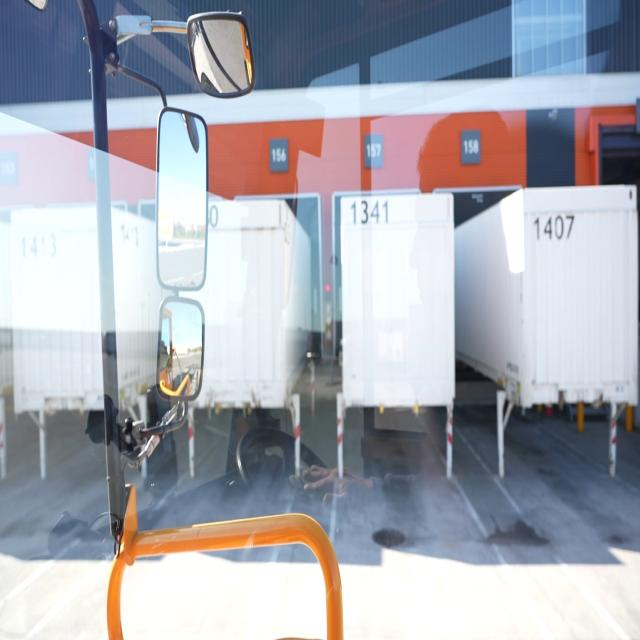Code: (346, 191, 392, 230), (531, 208, 575, 246)
